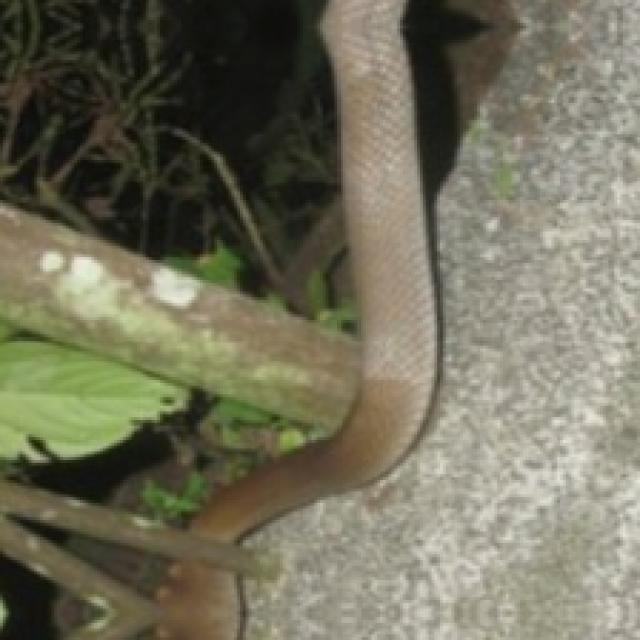reddish rat snake: (0, 0, 437, 637)
